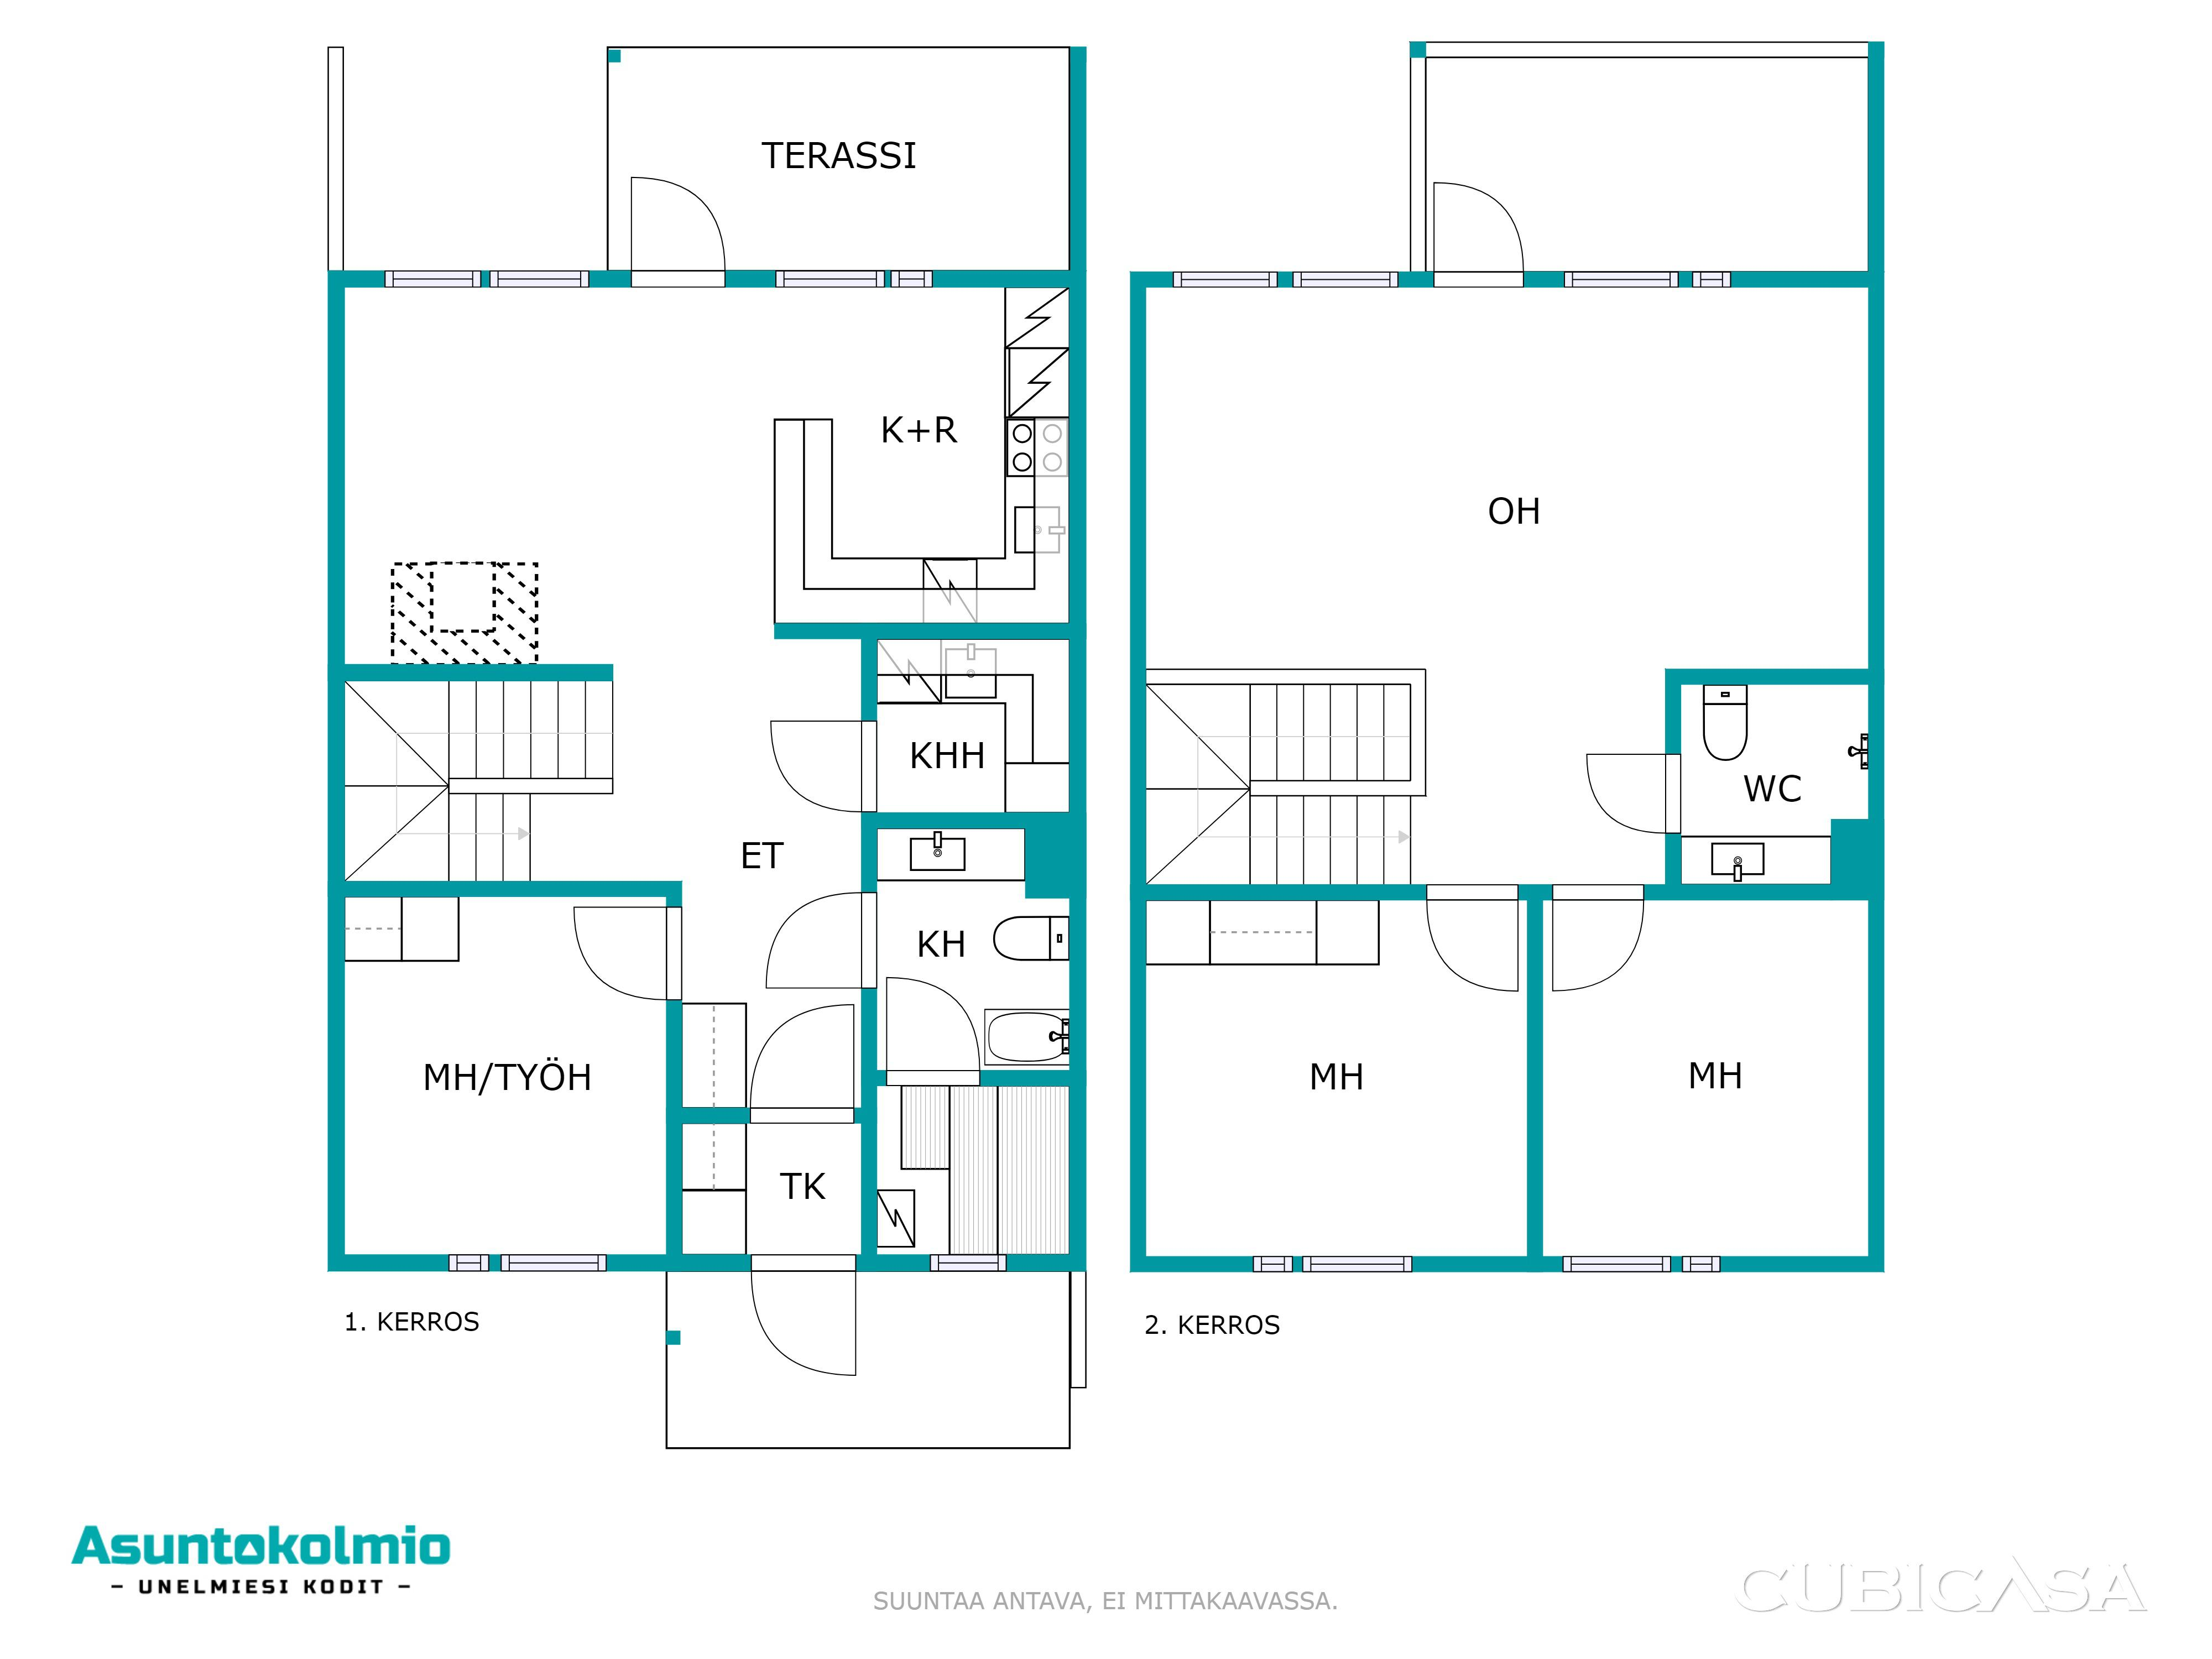bathroom: (878, 828, 1076, 1075), (1673, 681, 1867, 881)
door: (739, 1244, 868, 1387), (737, 999, 866, 1124), (614, 166, 732, 293), (1540, 872, 1653, 1004), (1420, 870, 1526, 1008), (758, 881, 884, 994), (880, 969, 986, 1094), (1427, 175, 1540, 291), (566, 895, 688, 997), (764, 708, 880, 815), (1577, 745, 1699, 833)
perimeter: (321, 263, 1090, 1281), (1122, 265, 1886, 1283)
stairs: (1147, 679, 1425, 785), (345, 681, 614, 785), (1147, 782, 1411, 888), (345, 785, 529, 881)
window: (1549, 260, 1687, 307), (1157, 252, 1291, 298), (1547, 1241, 1687, 1283), (1288, 1241, 1427, 1281), (766, 265, 896, 307), (485, 249, 589, 300), (368, 258, 497, 295), (1272, 265, 1406, 300), (490, 1246, 619, 1281), (919, 1248, 1020, 1281), (432, 1246, 499, 1281), (1671, 1248, 1734, 1285), (880, 263, 942, 300), (1240, 1246, 1300, 1281), (1681, 265, 1738, 300)
